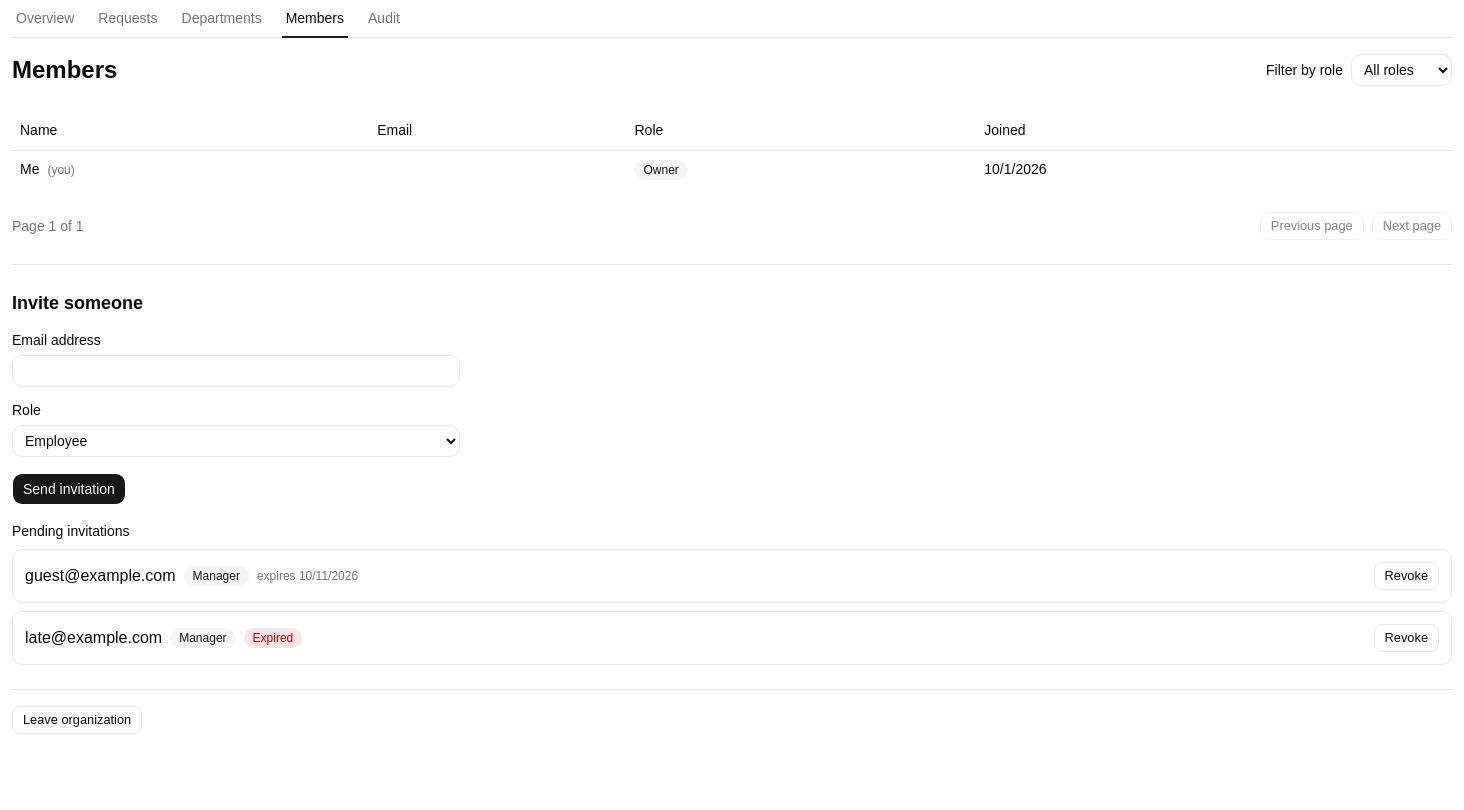
Test case: Invitations section › lists pending invitations, flags expired ones and revokes on request
Expected: the text "guest@example.com" is shown, [25,564,176,588]
Expected: the icon "Expired" is shown, [244,628,302,648]
Click the button with aria-label "Revoke invitation for guest@example.com": [1406, 576] box [1374,562,1439,590]
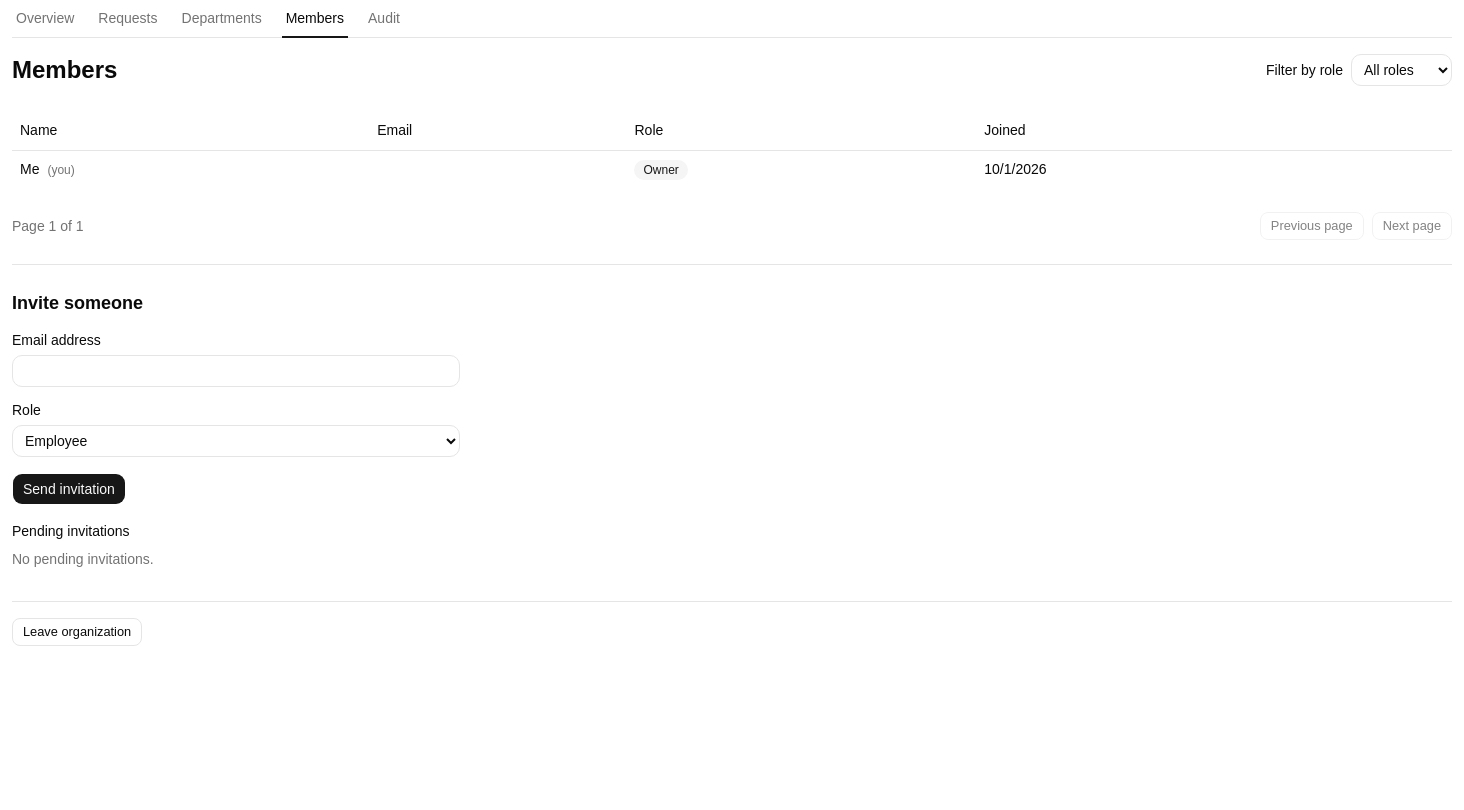
Result: the text "guest@example.com" is gone
